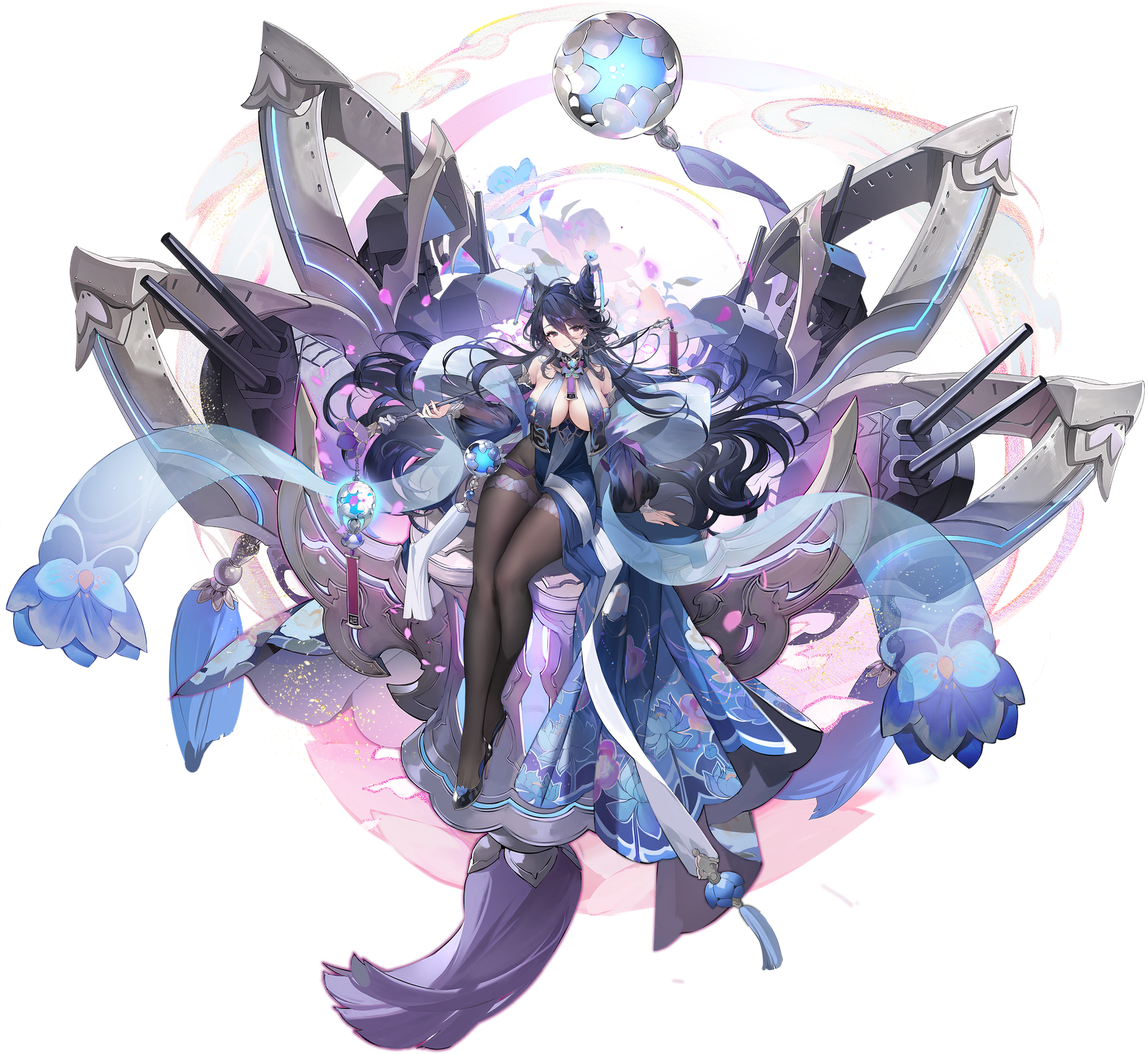person: (390, 230, 713, 1046)
